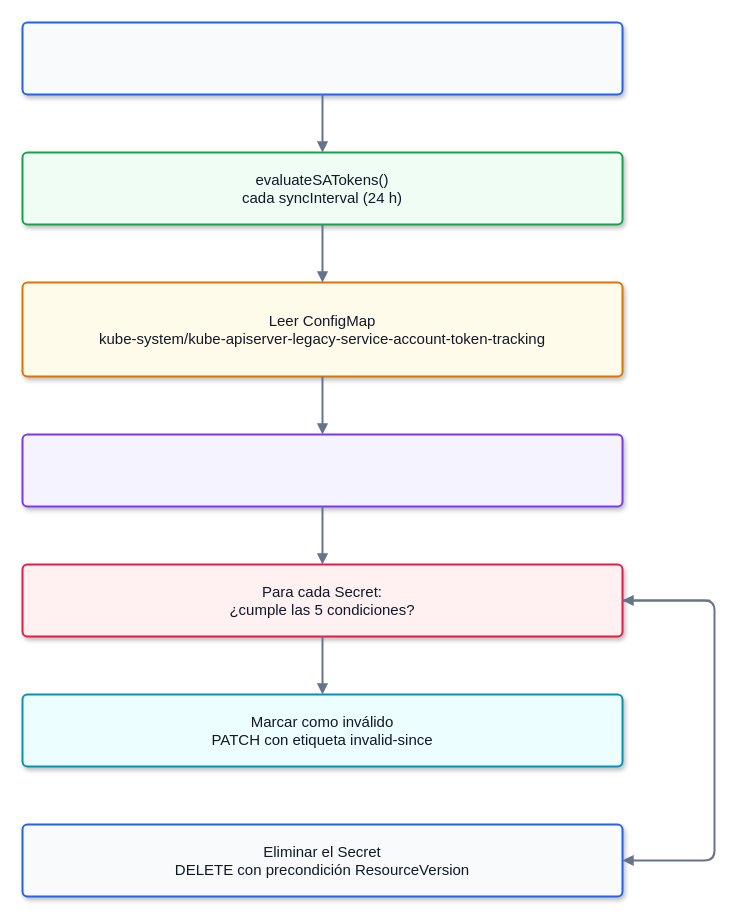
The diagram is 740 pixels wide and 921 high, and some of its shapes have lost their labels. Each missing label, with the centre of its shape:
"Listar todos los Secrets del tipo service-account-token" belongs at [323,471].
"Run() wait.UntilWithContext" belongs at [323,59].
